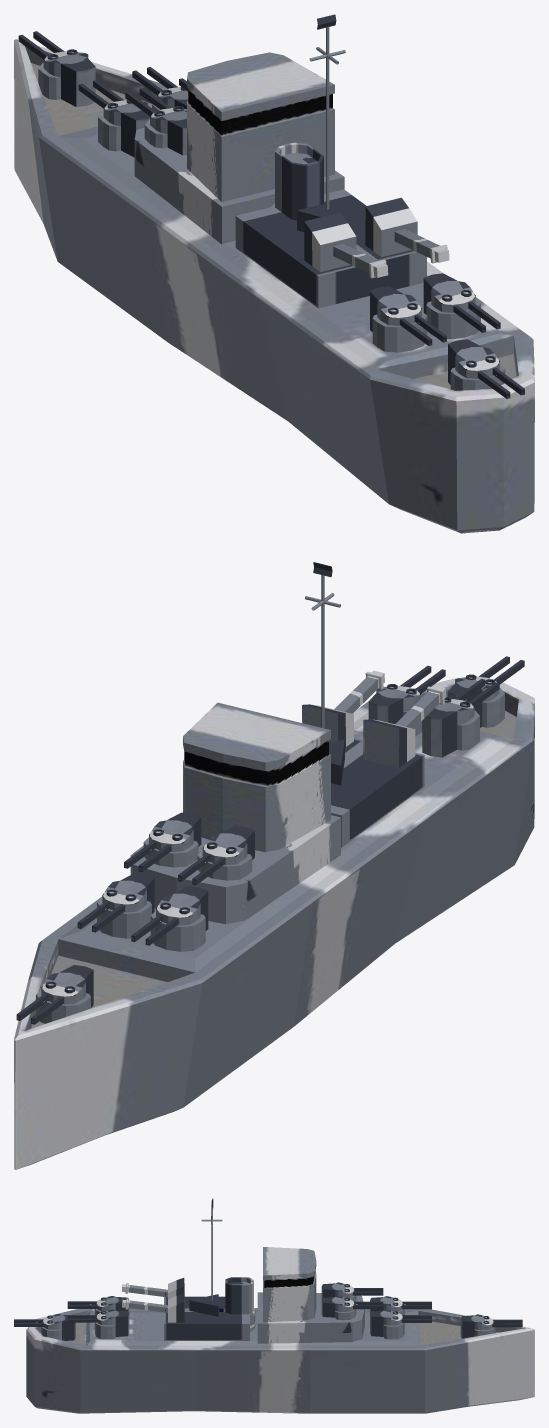
Rendered from barco_2.fbx.
3 renders of one model, top to bottom at view 1: azimuth 30°, elevation 25°; view 2: azimuth 150°, elevation 25°; view 3: azimuth 270°, elevation 25°, orthographic. The views are drawn at different scales.
Visible parts, largest first — view 1: barco_2, Cube.032, Cube.025, Cube.024, Cube.031, Cube.027, Cube.026, Cube.033, Cube.036, Cube.030, Cube.023, Circle.002 (+2 smaller); view 2: barco_2, Cube.032, Cube.025, Cube.030, Cube.024, Cube.022, Cube.026, Cube.034, Cube.023, Cube.033, Cube.027, Cube.031 (+2 smaller); view 3: barco_2, Cube.032, Cube.025, Cube.031, Cube.022, Cube.036, Cube.034, Cube.033, Cube.027, Cube.023, Cube.026, Cube.024 (+3 smaller).
Boxes of the visible parts, x1,y1,x2,y2 form: barco_2: (14, 39, 534, 533); Cube.032: (134, 52, 344, 244); Cube.025: (235, 142, 426, 308); Cube.024: (370, 286, 446, 352); Cube.031: (423, 273, 500, 339); Cube.027: (365, 197, 449, 263); Cube.026: (304, 212, 388, 278); Cube.033: (18, 31, 95, 106); Cube.036: (448, 339, 524, 398); Cube.030: (78, 80, 150, 157); Cube.023: (125, 88, 186, 155); Circle.002: (309, 14, 345, 209); barco_2: (14, 678, 534, 1169); Cube.032: (130, 702, 340, 924); Cube.025: (331, 737, 424, 847); Cube.030: (131, 886, 208, 951); Cube.024: (422, 679, 499, 757); Cube.022: (77, 873, 154, 938); Cube.026: (363, 685, 446, 767); Cube.034: (124, 812, 201, 871); Cube.023: (178, 825, 254, 885); Cube.033: (16, 965, 93, 1024); Cube.027: (302, 670, 384, 747); Cube.031: (368, 665, 445, 736); barco_2: (26, 1308, 534, 1413); Cube.032: (257, 1247, 364, 1343); Cube.025: (164, 1277, 255, 1340); Cube.031: (67, 1309, 129, 1339); Cube.022: (370, 1309, 431, 1339); Cube.036: (14, 1314, 75, 1340); Cube.034: (321, 1296, 383, 1320); Cube.033: (460, 1314, 522, 1338); Cube.027: (122, 1293, 184, 1322); Cube.023: (321, 1282, 383, 1301); Cube.026: (122, 1278, 184, 1299); Cube.024: (67, 1296, 129, 1314).
Size of the model in its own units: 249 by 557 by 1313.
